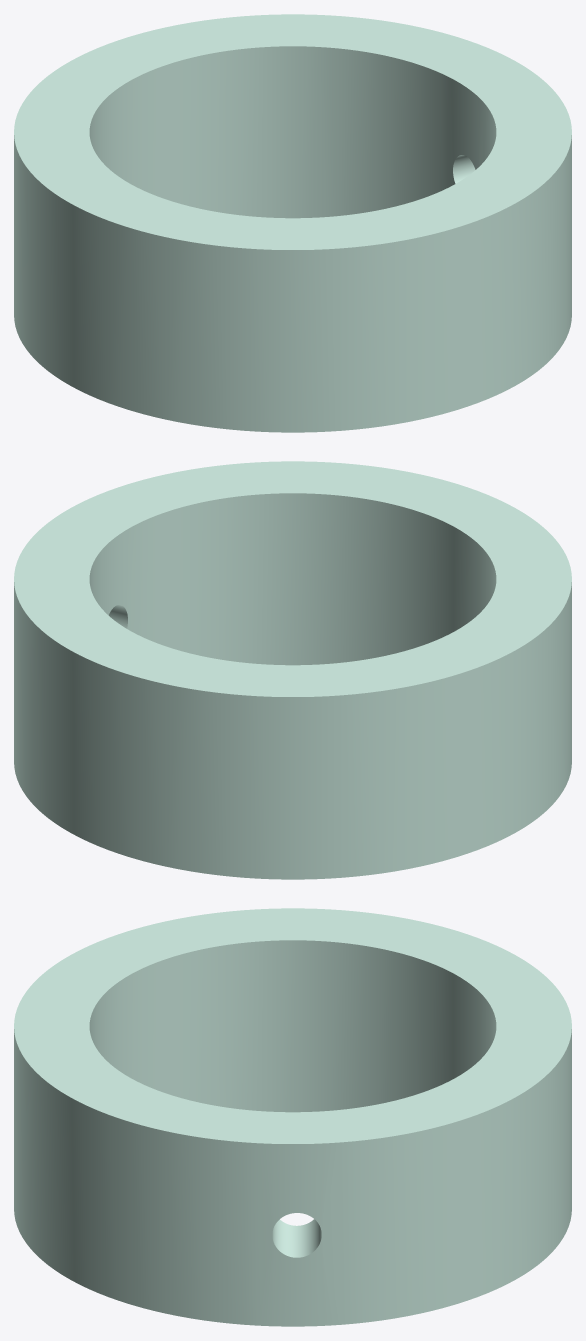
The picture shows the model from 3 angles, top to bottom: view 1: azimuth 30°, elevation 25°; view 2: azimuth 150°, elevation 25°; view 3: azimuth 270°, elevation 25°; orthographic projection.
Visible parts, largest first — view 1: Renderer Node; view 2: Renderer Node; view 3: Renderer Node.
Part boxes in pixels (box(x1,y1,x2,y2)): Renderer Node: box(14, 14, 571, 432); Renderer Node: box(14, 461, 571, 879); Renderer Node: box(14, 908, 571, 1326).
Size of the model in its own units: 1.52 by 0.5469 by 1.52.
